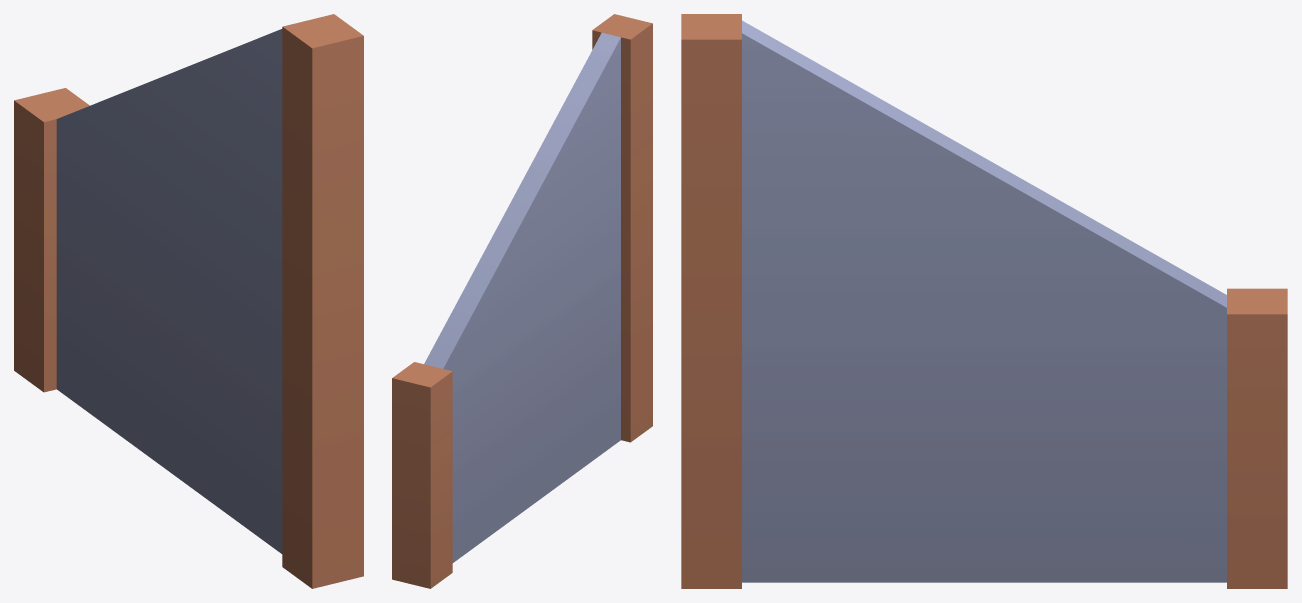
The model's file is kenney-fantasy-town-wall-slope.glb.
3 views of the same model, side by side, from view 1: azimuth 30°, elevation 25°; view 2: azimuth 150°, elevation 25°; view 3: azimuth 270°, elevation 25° (orthographic). The views are drawn at different scales.
Parts seen in each view (by area): view 1: wall-slope; view 2: wall-slope; view 3: wall-slope.
Boxes of the visible parts, left/top/right/bottom form: wall-slope: left=14, top=14, right=363, bottom=588; wall-slope: left=392, top=14, right=652, bottom=588; wall-slope: left=681, top=14, right=1287, bottom=588.
Bounding box in the file's own units: 0.1 × 1 × 1.
Materials: 1 (1 with a texture image).
